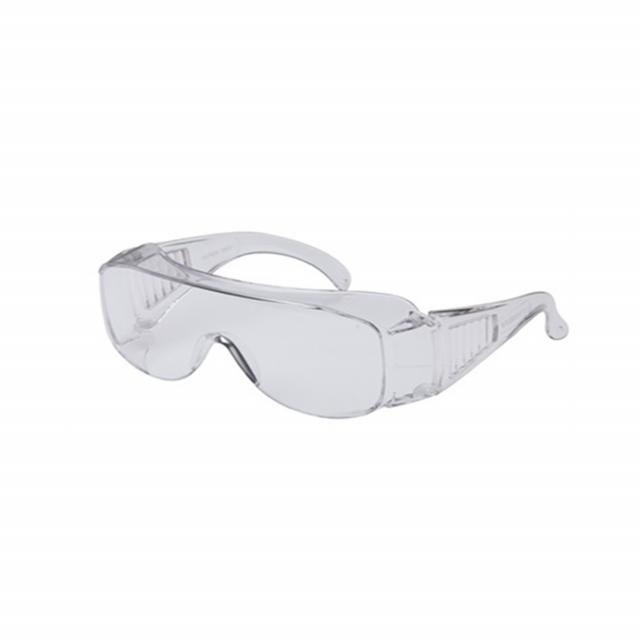Protective Glasses: (79, 215, 592, 447)
